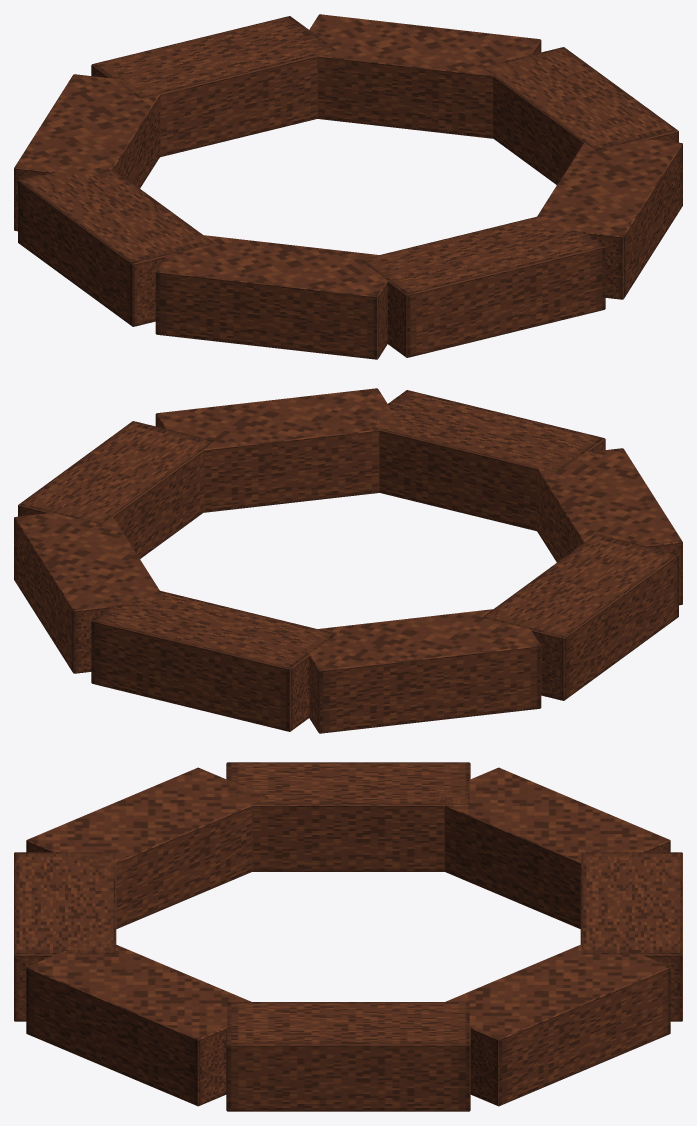
Rendered from env_hole_ore_backing.fbx.
The picture shows the model from 3 angles, top to bottom: view 1: azimuth 30°, elevation 25°; view 2: azimuth 150°, elevation 25°; view 3: azimuth 270°, elevation 25°; orthographic projection. The views are drawn at different scales.
Visible parts, largest first — view 1: env_hole_ore_backing; view 2: env_hole_ore_backing; view 3: env_hole_ore_backing.
Part boxes in pixels (box(x1,y1,x2,y2)): env_hole_ore_backing: box(14, 14, 682, 359); env_hole_ore_backing: box(14, 388, 682, 733); env_hole_ore_backing: box(14, 762, 682, 1111).
Bounding box in the file's own units: 144 × 16 × 144.
Materials: 1 (1 with a texture image).
